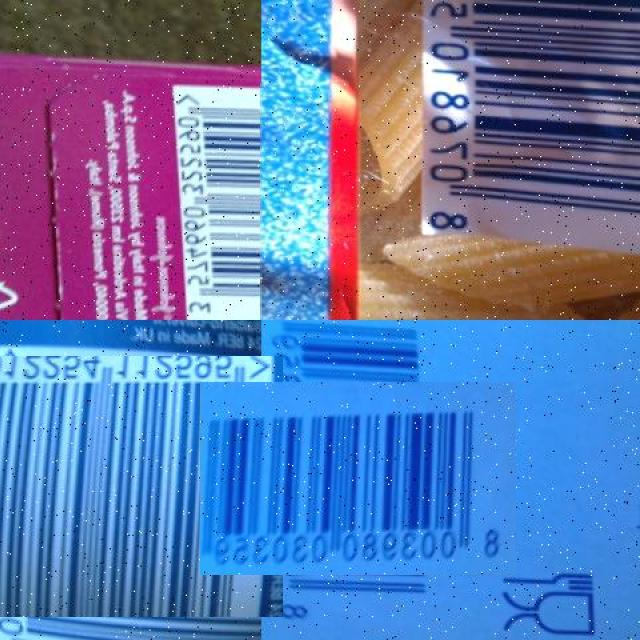Barcode: (0, 345, 272, 628), (231, 350, 485, 606), (398, 0, 640, 260), (170, 83, 262, 320)
